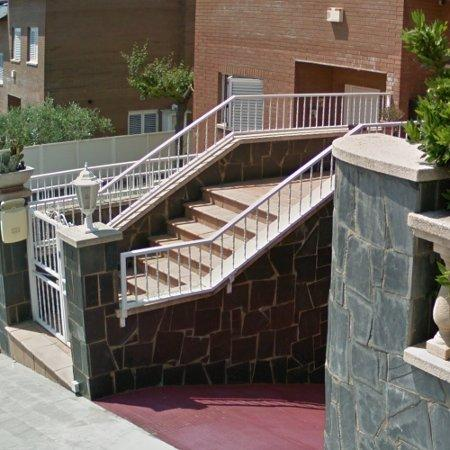stairs: (121, 148, 335, 320)
